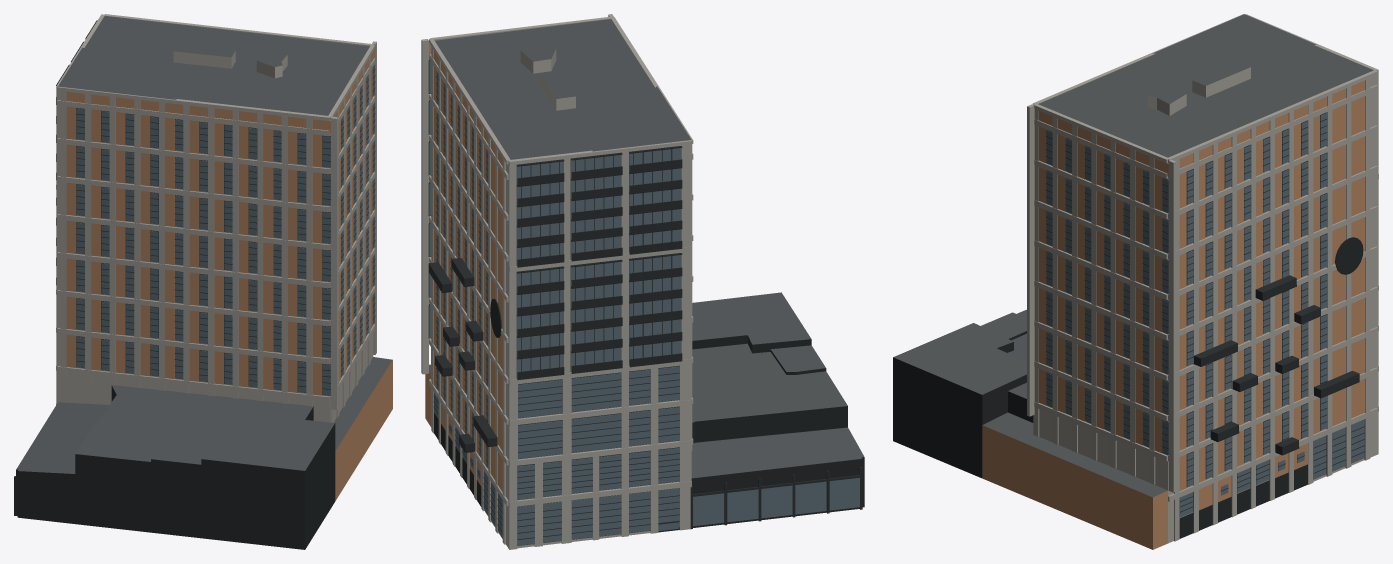
Rendered from voc-kade-600.glb.
The picture shows the model from 3 angles, left to right: view 1: azimuth 30°, elevation 25°; view 2: azimuth 150°, elevation 25°; view 3: azimuth 270°, elevation 25°; orthographic projection. The views are drawn at different scales.
Parts seen in each view (by area): view 1: voc-kade-600; view 2: voc-kade-600; view 3: voc-kade-600.
Part boxes in pixels (x1,y1,x2,y2): voc-kade-600: [14, 14, 392, 549]; voc-kade-600: [421, 14, 864, 549]; voc-kade-600: [893, 14, 1378, 549].
Bounding box in the file's own units: 59.01 × 53.44 × 59.46.
